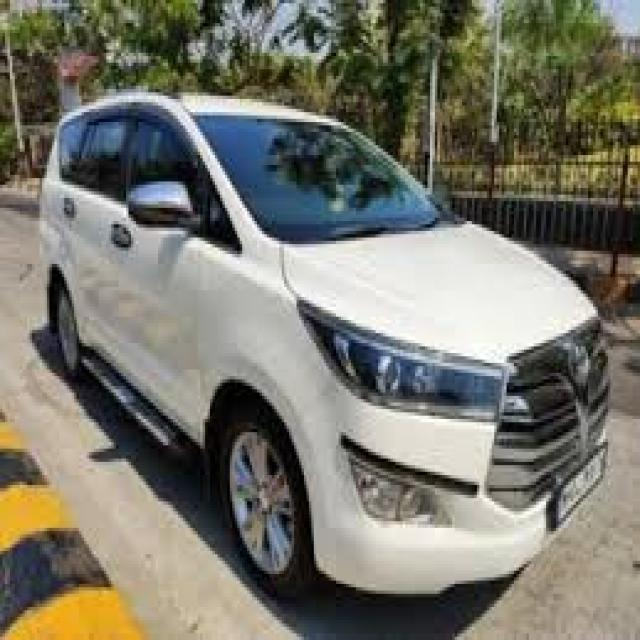light_vehicle: (41, 94, 611, 596)
